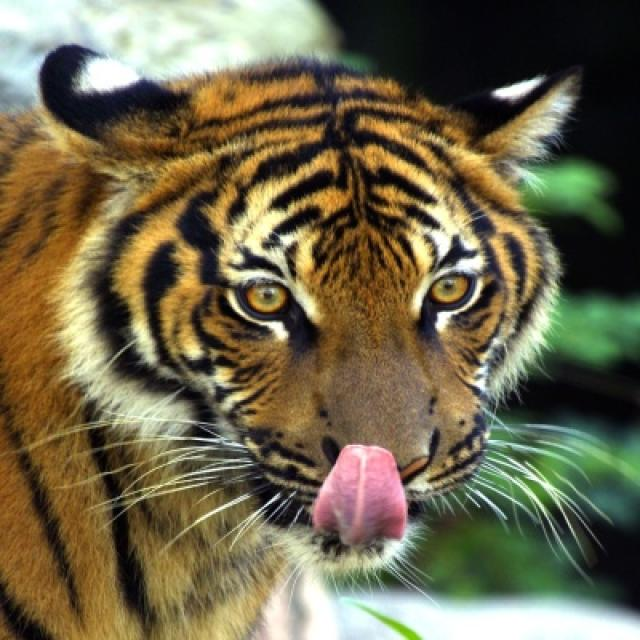Tiger: (0, 43, 570, 636)
